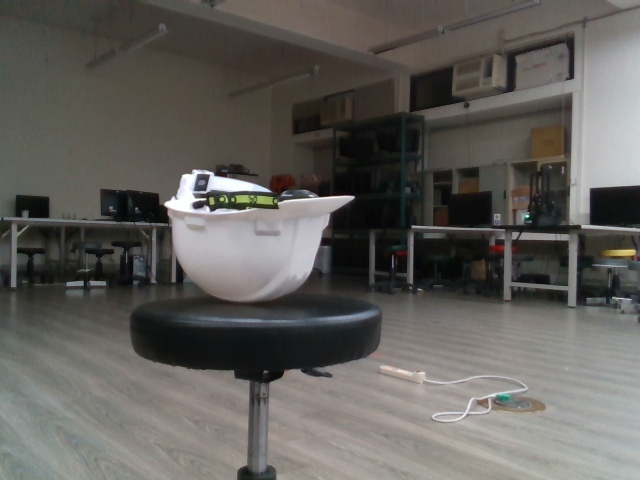helmet: (163, 166, 359, 304)
